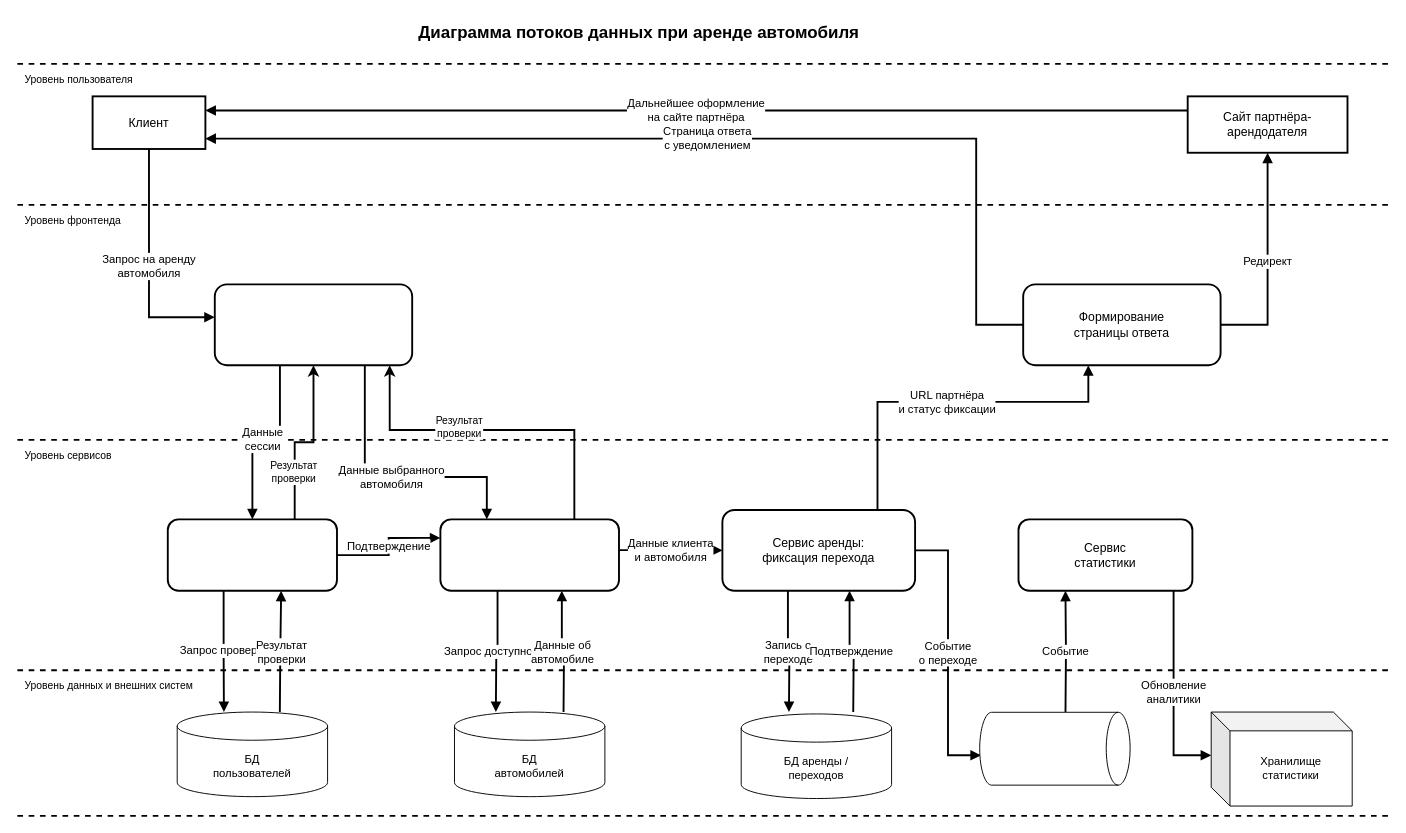
This 1406x833 diagram has some shape labels left out. Each missing label, with the centre of its shape:
"Очередь событий Kafka" goes at point 1054,748.
"Проверка авторизации и обработка запроса" goes at point 313,324.
"Сервис автомобилей" goes at point 529,554.
"Сервис авторизации" goes at point 251,554.
